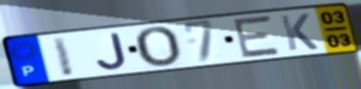7: (181, 18, 216, 67)
E: (232, 14, 283, 60)
I: (50, 35, 77, 79)
J: (94, 31, 130, 72)
K: (277, 12, 321, 53)
O: (132, 25, 184, 69)
